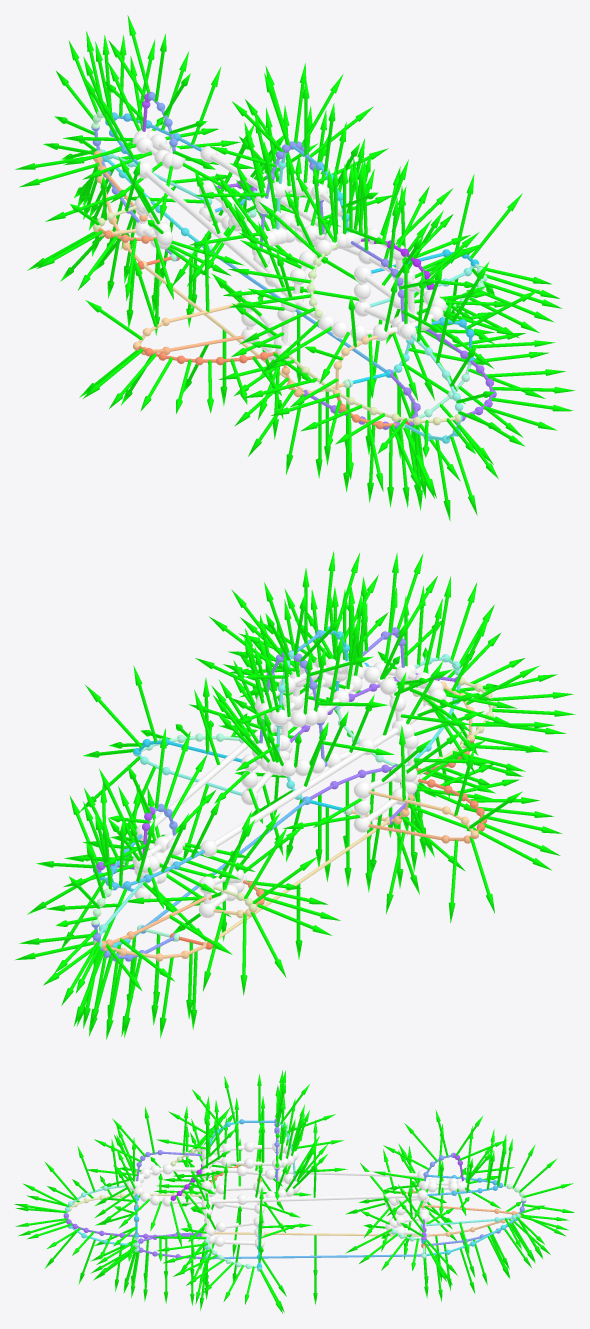
Rendered from scaffolds3d_submarine.gltf.
3 views of the same model, one above another, from view 1: azimuth 30°, elevation 25°; view 2: azimuth 150°, elevation 25°; view 3: azimuth 270°, elevation 25° (orthographic). The views are drawn at different scales.
Bounding box in the file's own units: 0.6358 × 0.4546 × 1.05.
